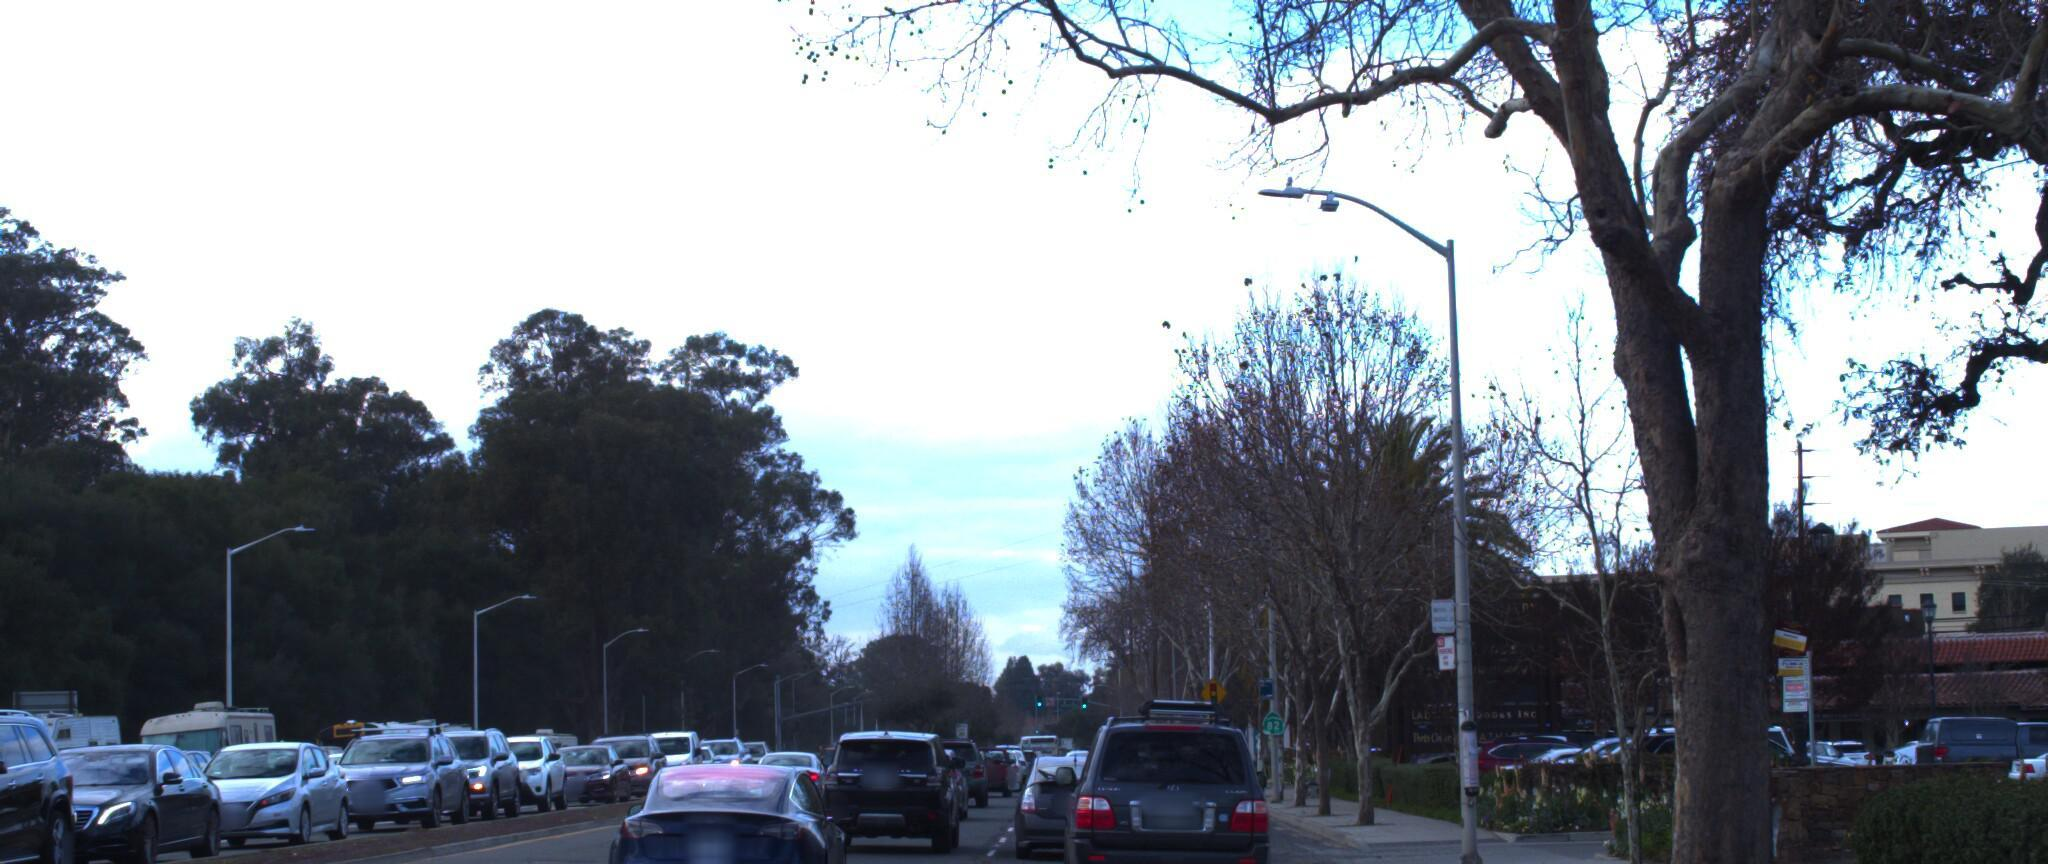bus: (0, 663, 225, 810)
car: (1068, 681, 1281, 864), (1738, 736, 2038, 855), (0, 733, 246, 864), (611, 747, 862, 864), (178, 733, 366, 843), (812, 710, 957, 842), (324, 707, 477, 822), (0, 696, 97, 864), (993, 741, 1122, 851), (481, 719, 593, 800), (1994, 724, 2048, 859), (536, 728, 641, 791), (744, 737, 842, 801), (2000, 737, 2048, 864)
